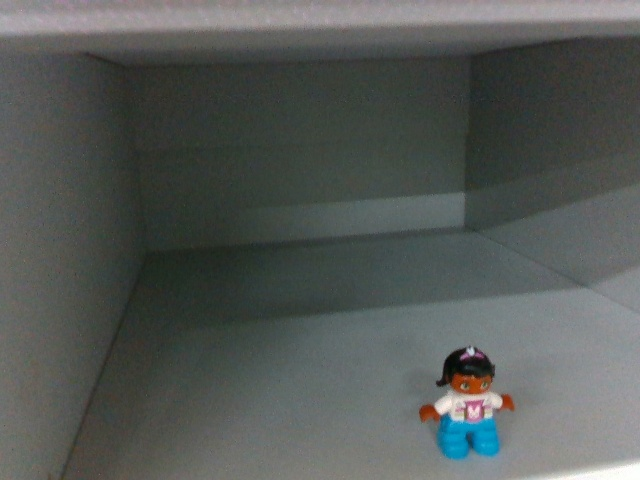people: (413, 346, 520, 461)
